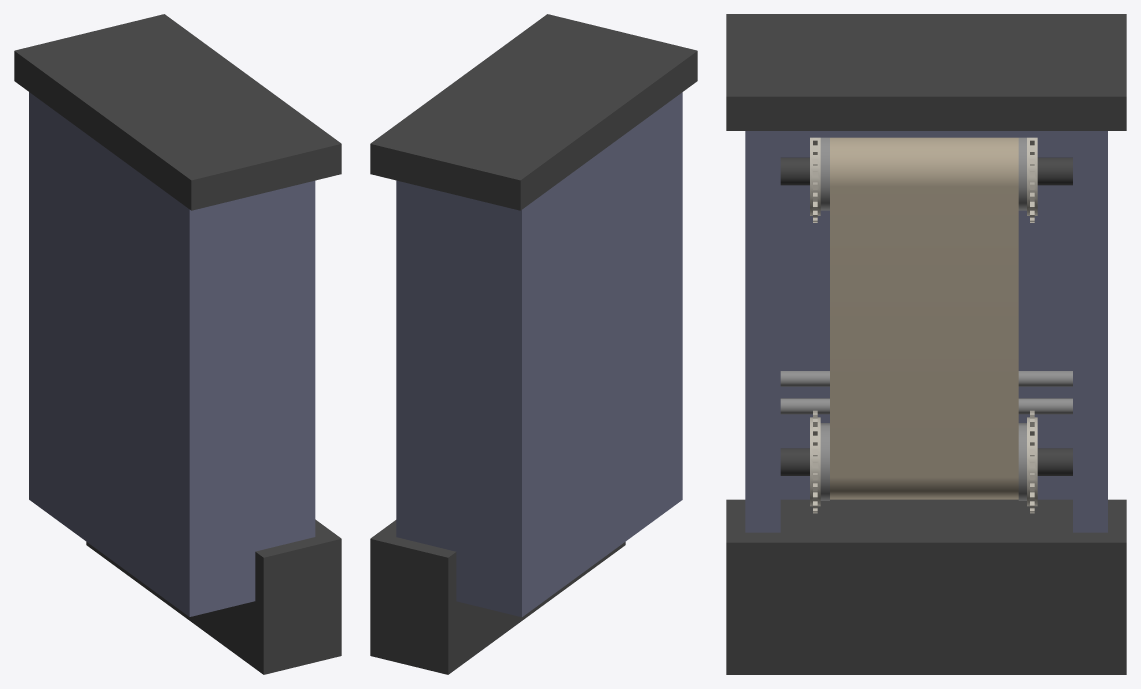
File: ACT3_OutputArea.fbx
The picture shows the model from 3 angles, left to right: view 1: azimuth 30°, elevation 25°; view 2: azimuth 150°, elevation 25°; view 3: azimuth 270°, elevation 25°; orthographic projection. The views are drawn at different scales.
Parts seen in each view (by area): view 1: mesh_Output_Area2, mesh_Output_Area, mesh_Output_Area1; view 2: mesh_Output_Area2, mesh_Output_Area, mesh_Output_Area1; view 3: mesh_Output_Area5, mesh_Output_Area1, mesh_Output_Area2, mesh_Output_Area, mesh_Output_Area10, mesh_Output_Area17, mesh_Output_Area12, mesh_Output_Area11, mesh_Output_Area15, mesh_Output_Area16, mesh_Output_Area8, mesh_Output_Area9 (+4 smaller).
Boxes of the visible parts, <box> form: mesh_Output_Area2: <box>29,92,315,616</box>; mesh_Output_Area: <box>14,14,341,210</box>; mesh_Output_Area1: <box>86,519,341,674</box>; mesh_Output_Area2: <box>396,92,682,617</box>; mesh_Output_Area: <box>370,14,697,210</box>; mesh_Output_Area1: <box>370,520,625,674</box>; mesh_Output_Area5: <box>830,137,1018,499</box>; mesh_Output_Area1: <box>726,499,1126,674</box>; mesh_Output_Area2: <box>745,131,1107,532</box>; mesh_Output_Area: <box>726,14,1126,130</box>; mesh_Output_Area10: <box>780,157,1072,185</box>; mesh_Output_Area17: <box>780,448,1072,475</box>; mesh_Output_Area12: <box>780,398,1072,414</box>; mesh_Output_Area11: <box>780,371,1072,386</box>; mesh_Output_Area15: <box>810,410,820,513</box>; mesh_Output_Area16: <box>1027,410,1037,513</box>; mesh_Output_Area8: <box>810,137,820,222</box>; mesh_Output_Area9: <box>1027,137,1037,222</box>.
Bounding box in the file's own units: 1.39 × 4.53 × 2.85.
